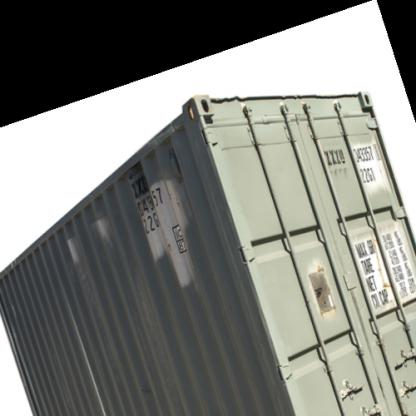Damage: (89, 121, 191, 199)
